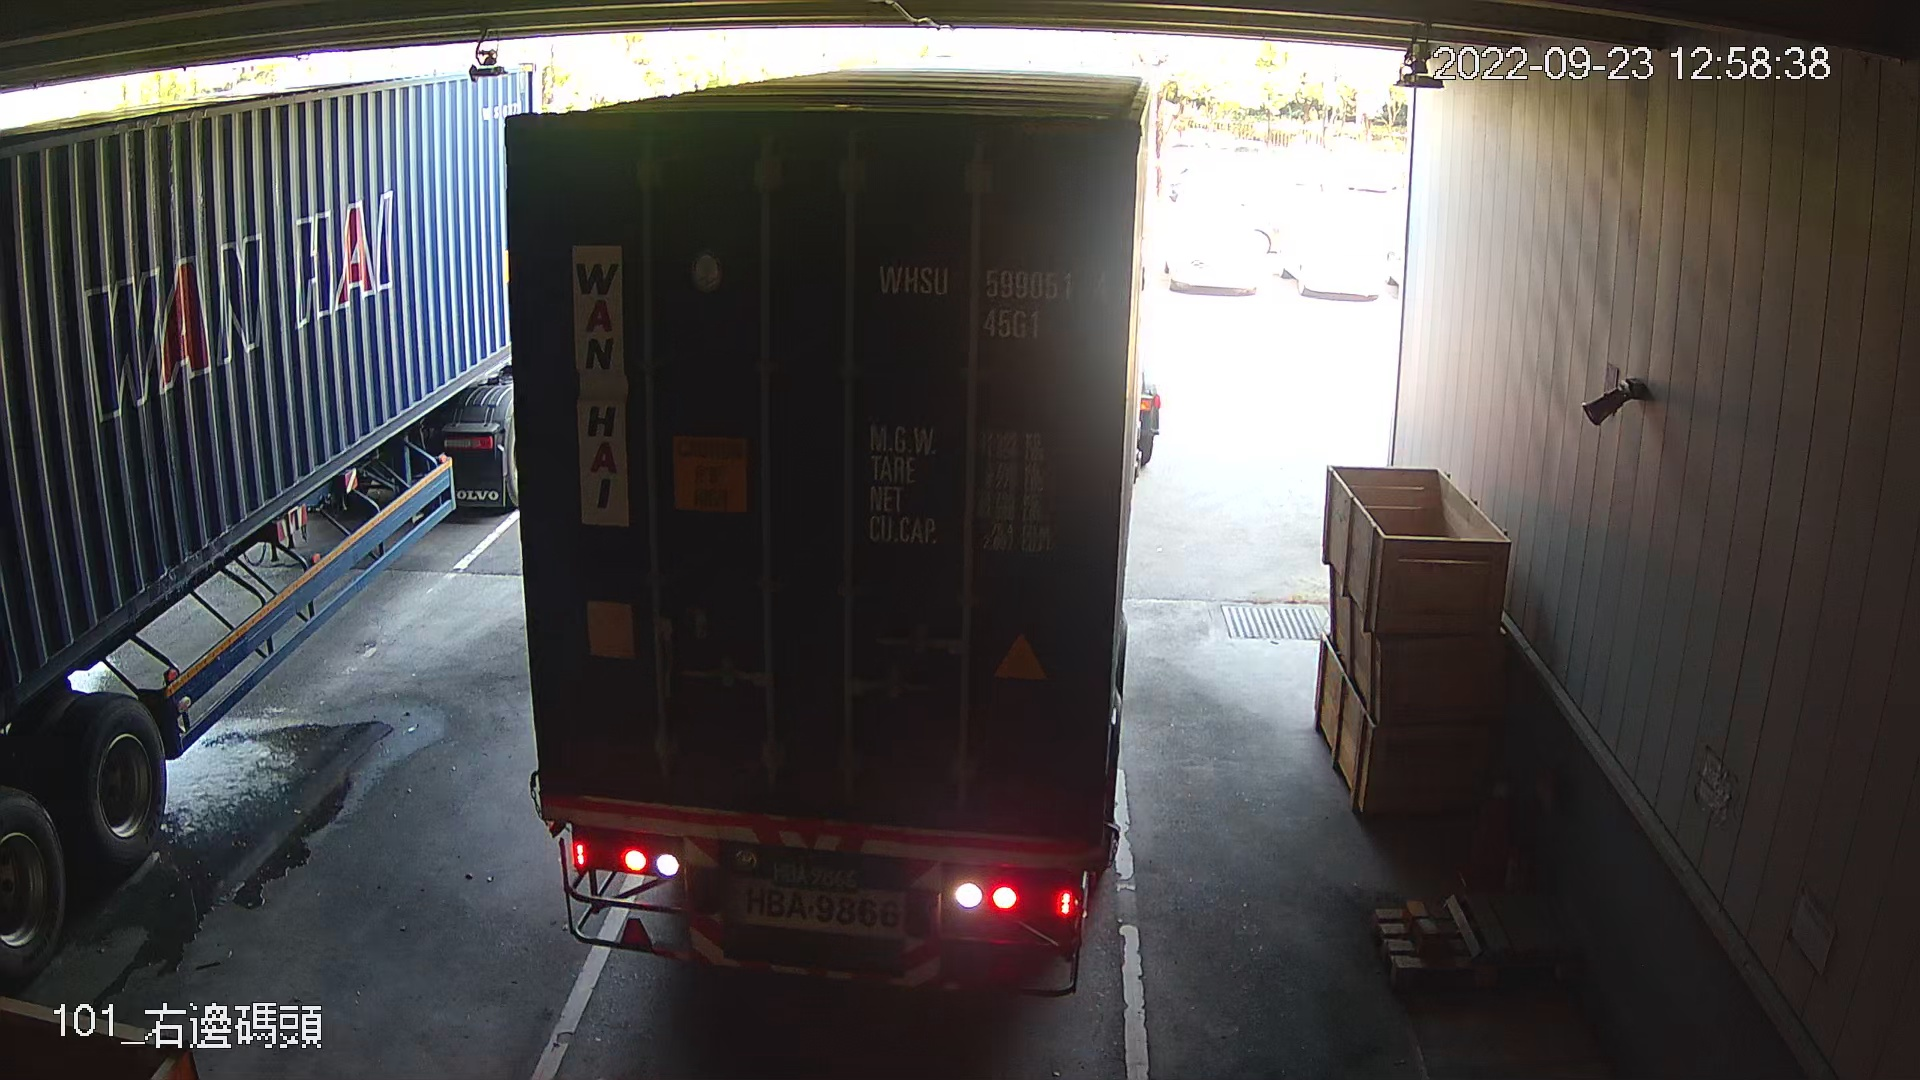container: (862, 245, 1120, 353)
